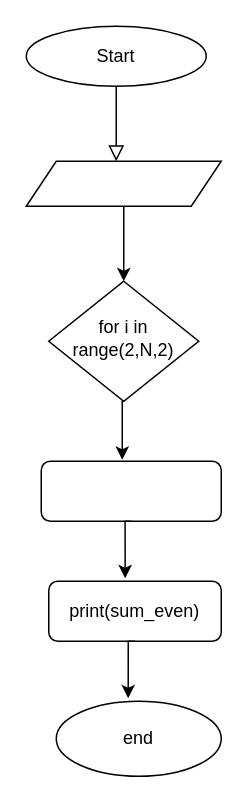
The diagram is 248 pixels wide and 803 high, and some of its shapes have lost their labels. Here are the shapes that lost their labels. From the top down, the centre of each, then its label:
At point 123,183: "N,sum_even=0".
At point 130,490: "sum_even+=i".
